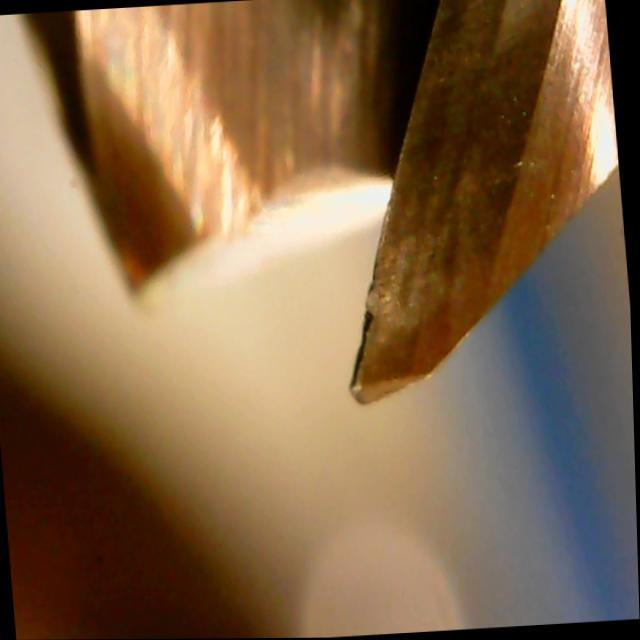Tool-wear-class-1: (314, 184, 493, 418)
